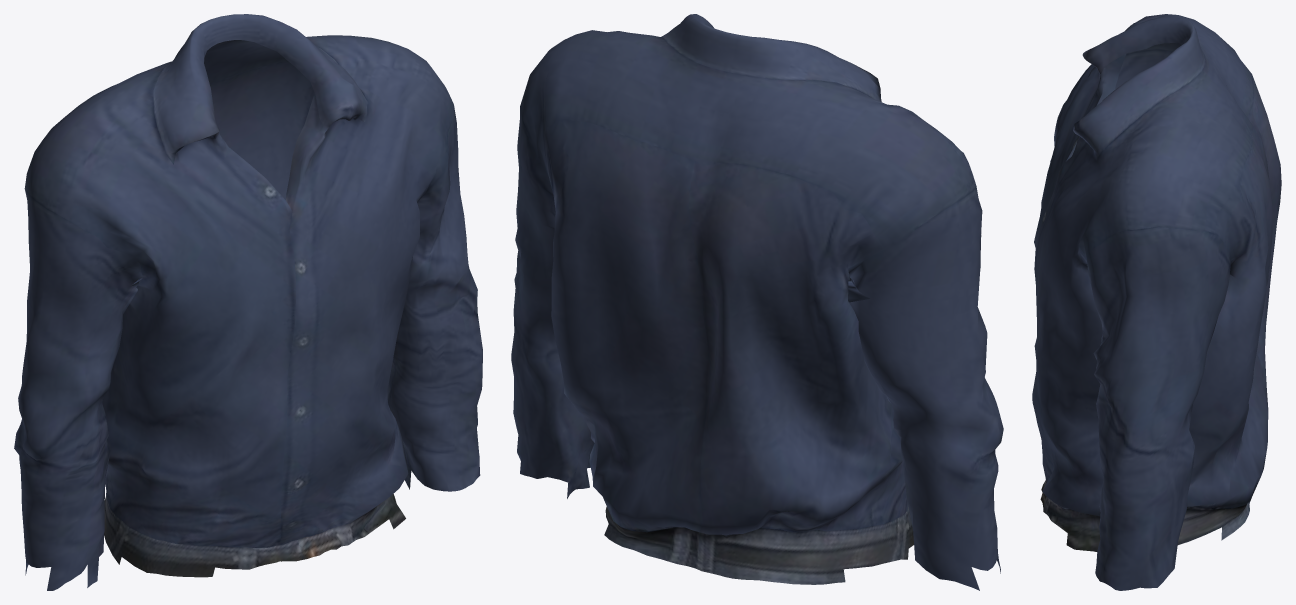
Rendered from top_formal_shirt.gltf.
The picture shows the model from 3 angles, left to right: view 1: azimuth 30°, elevation 25°; view 2: azimuth 150°, elevation 25°; view 3: azimuth 270°, elevation 25°; orthographic projection. The views are drawn at different scales.
Visible parts, largest first — view 1: top_formal_shirt; view 2: top_formal_shirt; view 3: top_formal_shirt.
Part boxes in pixels (x1=…): top_formal_shirt: x1=14, y1=14, x2=482, y2=590; top_formal_shirt: x1=511, y1=14, x2=1003, y2=590; top_formal_shirt: x1=1032, y1=14, x2=1281, y2=590.
Size of the model in its own units: 0.5547 by 0.5741 by 0.2784.
Materials: 1 (1 with a texture image).
